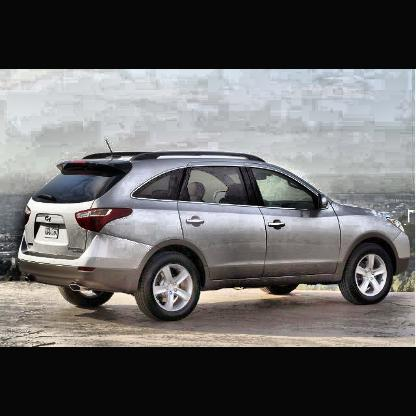Hyundai Veracruz SUV 2012: (18, 138, 413, 322)
